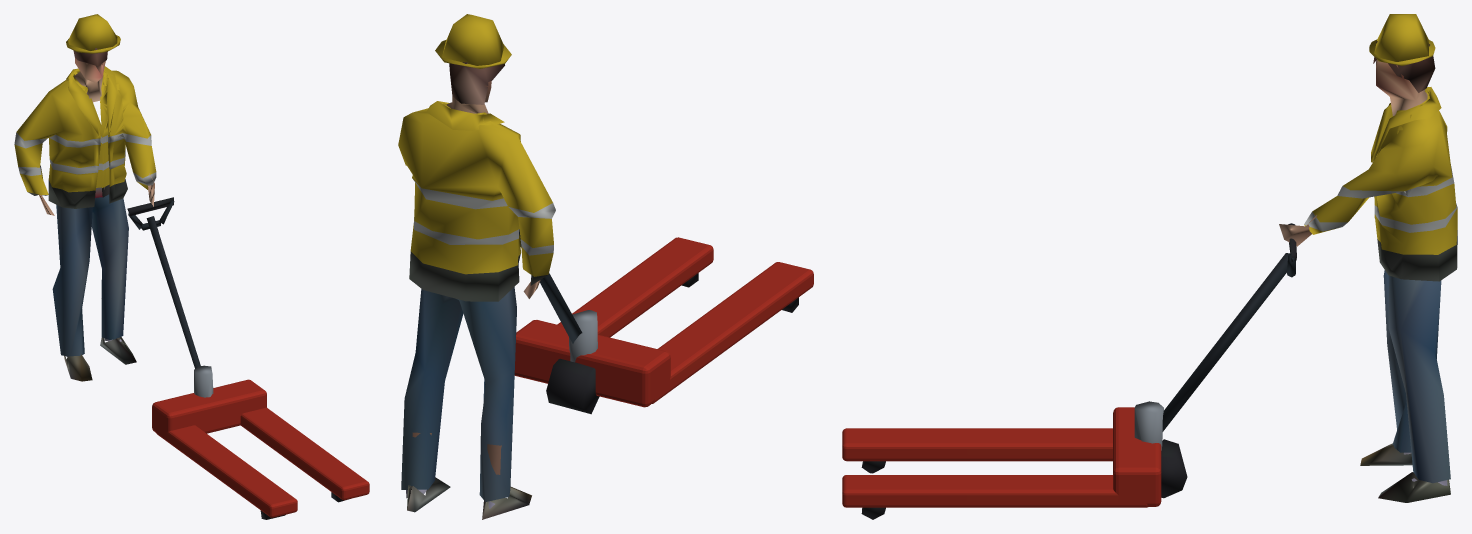
Rendered from worker.glb.
The picture shows the model from 3 angles, left to right: view 1: azimuth 30°, elevation 25°; view 2: azimuth 150°, elevation 25°; view 3: azimuth 270°, elevation 25°; orthographic projection. The views are drawn at different scales.
Parts seen in each view (by area): view 1: worker; view 2: worker; view 3: worker.
Boxes of the visible parts, x1,y1,x2,y2 form: worker: (14,14,369,519); worker: (398,14,813,519); worker: (842,14,1457,519).
Size of the model in its own units: 0.7633 by 1.91 by 2.3.
